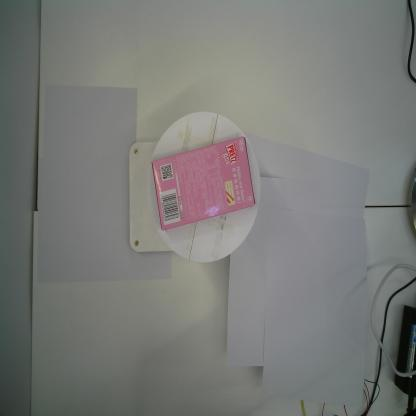Dessert: (151, 136, 256, 232)
